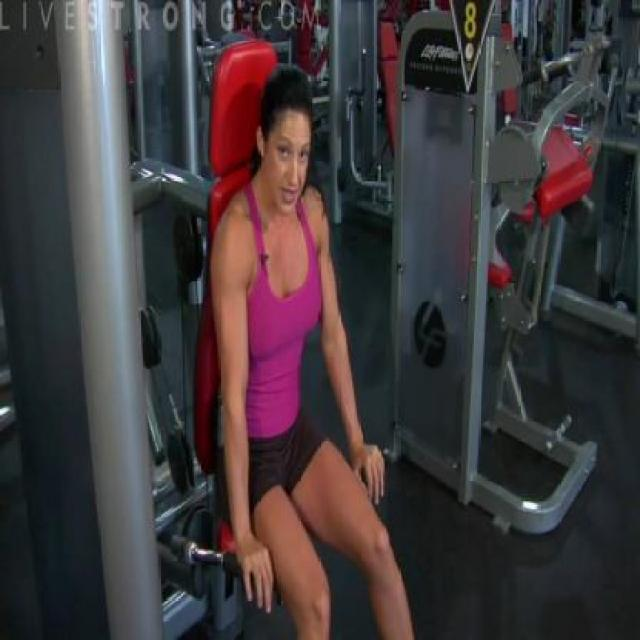seated dip machine: (137, 38, 388, 612)
